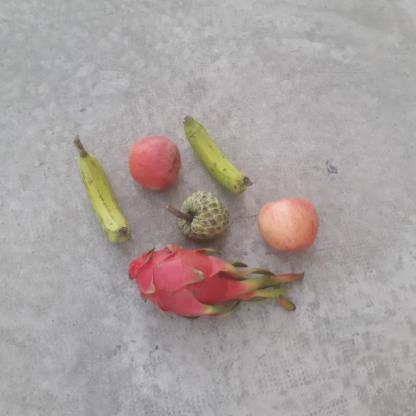annona: (177, 188, 230, 242)
apple: (255, 194, 321, 256), (126, 134, 186, 192)
banana: (182, 114, 254, 196), (74, 150, 132, 237)
pitaya: (127, 242, 240, 322)
